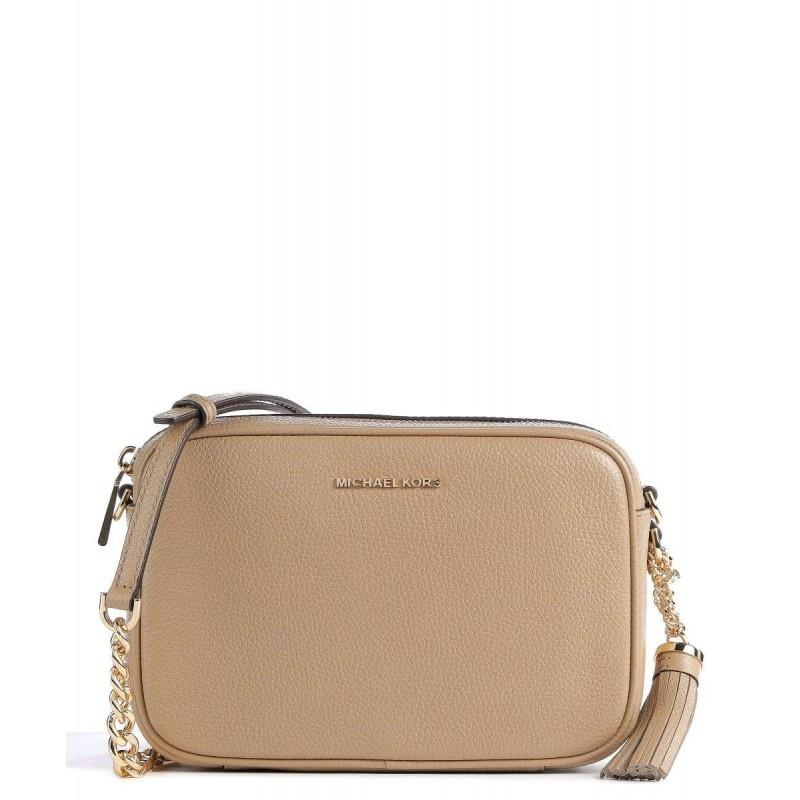MICHAEL-KORS: (337, 477, 441, 488)
